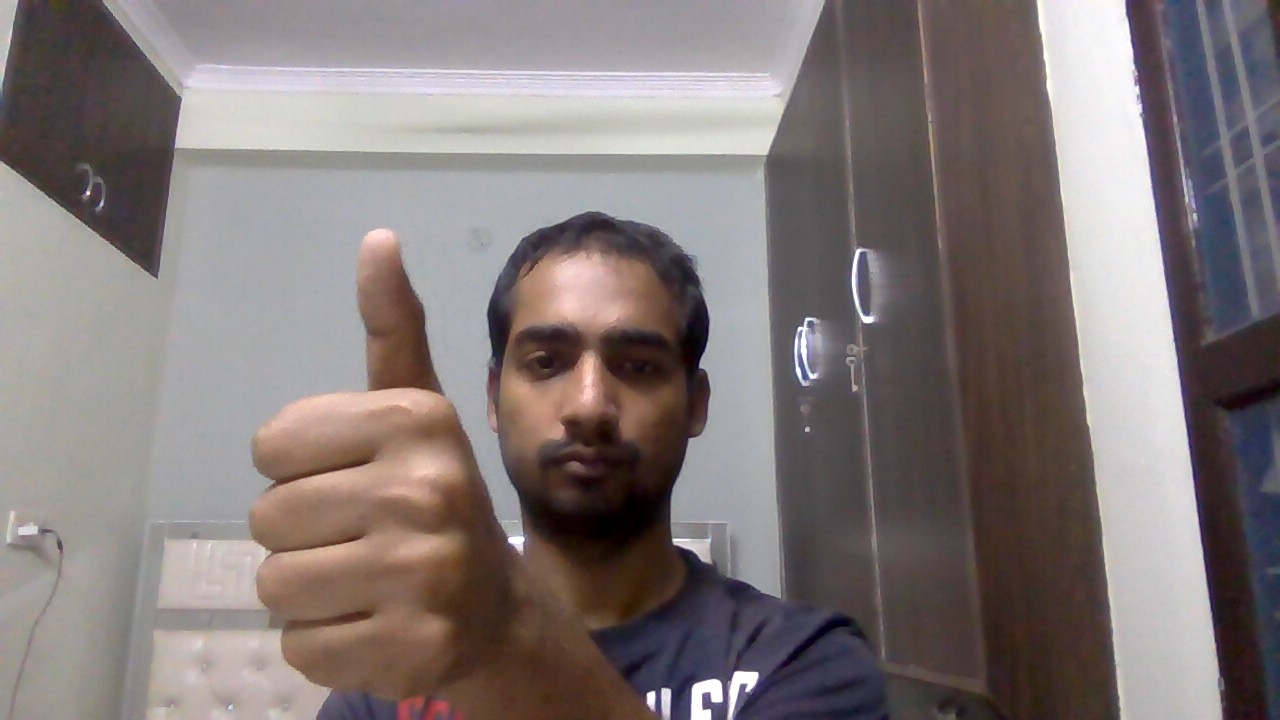Save: (239, 219, 517, 708)
